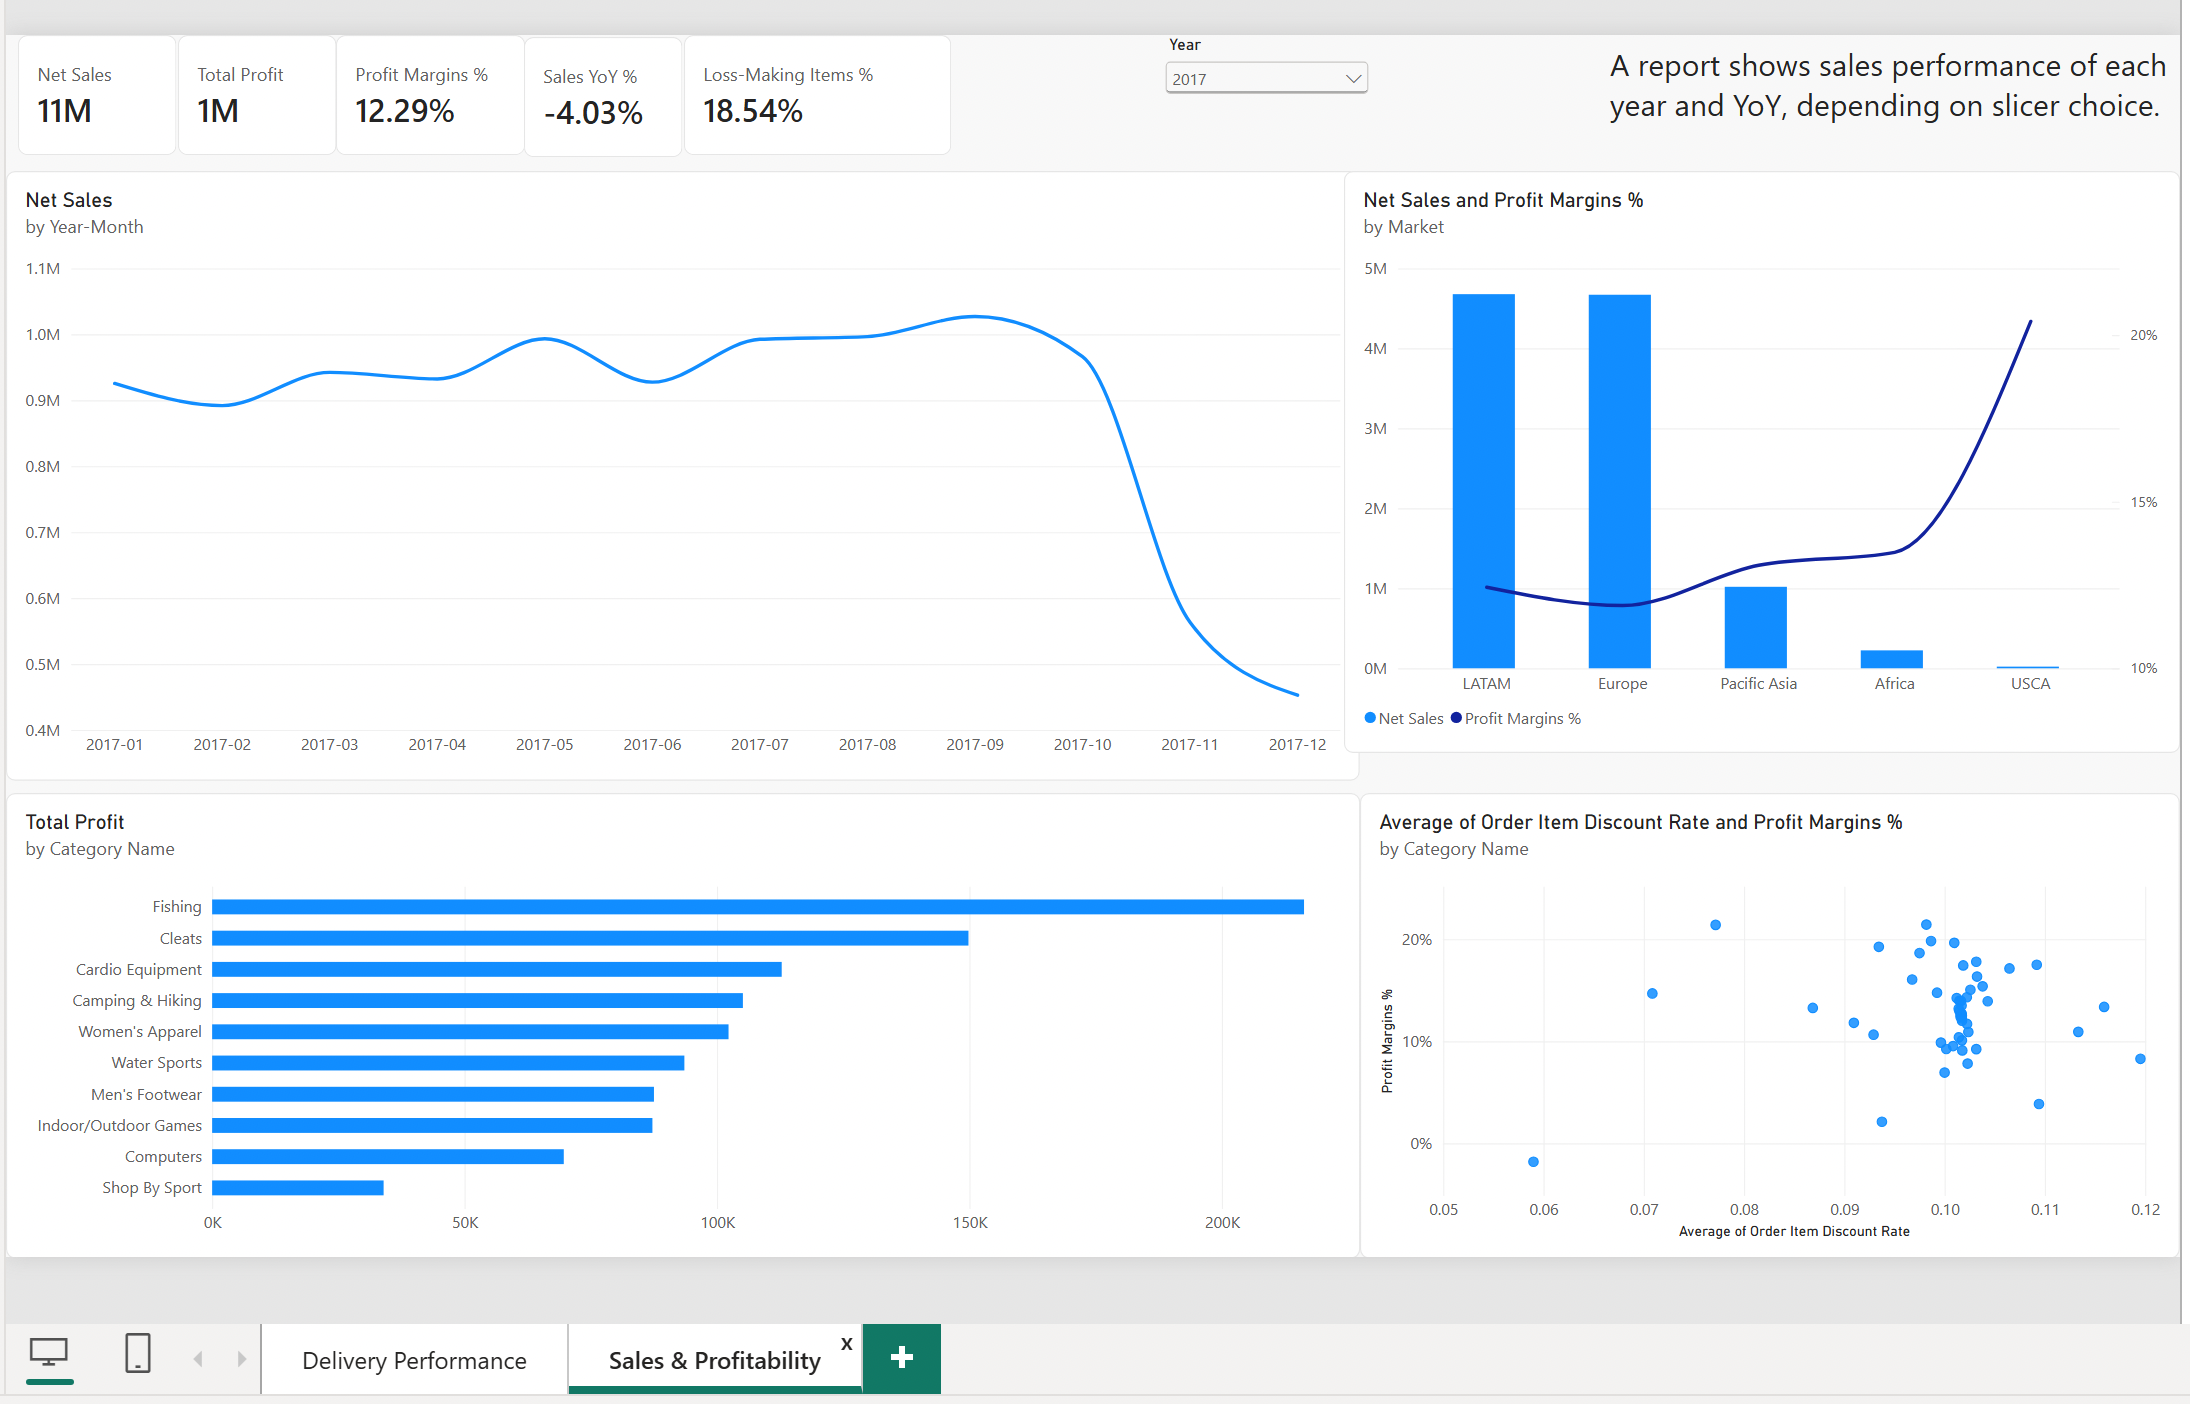

This screenshot's page, from the dashboard's own definition file:
{"tool":"powerbi","page":{"name":"Sales & Profitability","canvas":[1920,1080],"ordinal":1},"visuals":[{"type":"cardVisual","fields":{"Data":["_Measures.Net Sales"]},"box":[10.2,0,140.8,106.1],"z":0},{"type":"cardVisual","fields":{"Data":["_Measures.Sales YoY %"]},"box":[457.5,1.8,140,106],"z":1000},{"type":"cardVisual","fields":{"Data":["_Measures.Total Profit"]},"box":[151.9,0,140,106],"z":2000},{"type":"cardVisual","fields":{"Data":["_Measures.Profit Margins %"]},"box":[291.4,0,167.3,106.1],"z":3000},{"type":"lineChart","fields":{"Category":["DimDate.Year-Month"],"Y":["_Measures.Net Sales"]},"box":[0,120.4,1195.7,538.7],"z":4000},{"type":"barChart","fields":{"Category":["FactOrderItems.Category Name"],"Y":["_Measures.Total Profit"]},"box":[0,669,1196,411],"z":5000},{"type":"lineStackedColumnComboChart","fields":{"Category":["FactOrderItems.Market"],"Y":["_Measures.Net Sales"],"Y2":["_Measures.Profit Margins %"]},"box":[1181.4,120.4,738.6,514.2],"z":6000},{"type":"scatterChart","fields":{"Category":["DimProduct.Category Name"],"X":["Avg(FactOrderItems.Order Item Discount Rate)"],"Y":["_Measures.Profit Margins %"]},"box":[1196,669,724,411],"z":7000},{"type":"cardVisual","fields":{"Data":["_Measures.Loss-Making Items %"]},"box":[598.8,0,236.7,106.1],"z":8000},{"type":"textbox","box":[100,100,300,300],"z":9000},{"type":"slicer","fields":{"Values":["DimDate.Year"]},"box":[1019.2,0,189,84.8],"z":10000},{"type":"textbox","box":[1416.6,7.1,503.4,93.6],"z":11000}]}

Visuals, with their boxes on the page's 1920x1080 design canvas (x1, y1, x2, y2). These are canvas units, not pixel positions in the 2190x1404 screenshot, which may show the page scaled, cropped or inside an application window:
cardVisual - _Measures.Net Sales: [10,0,151,106]
cardVisual - _Measures.Sales YoY %: [458,2,598,108]
cardVisual - _Measures.Total Profit: [152,0,292,106]
cardVisual - _Measures.Profit Margins %: [291,0,459,106]
lineChart - DimDate.Year-Month x _Measures.Net Sales: [0,120,1196,659]
barChart - FactOrderItems.Category Name x _Measures.Total Profit: [0,669,1196,1080]
lineStackedColumnComboChart - FactOrderItems.Market x _Measures.Net Sales: [1181,120,1920,635]
scatterChart - DimProduct.Category Name x Avg(FactOrderItems.Order Item Discount Rate): [1196,669,1920,1080]
cardVisual - _Measures.Loss-Making Items %: [599,0,836,106]
textbox: [100,100,400,400]
slicer - DimDate.Year: [1019,0,1208,85]
textbox: [1417,7,1920,101]
